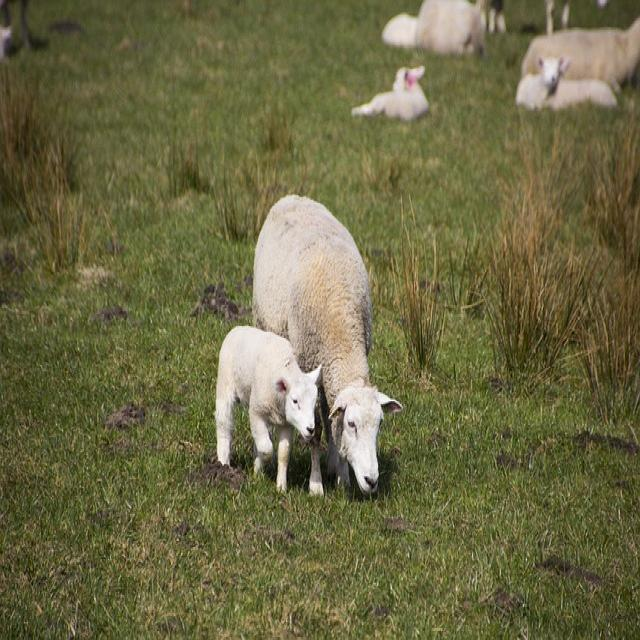sheep: (251, 192, 403, 498), (214, 323, 323, 496), (520, 15, 639, 93), (381, 0, 486, 57), (515, 54, 617, 111), (351, 65, 429, 120)
